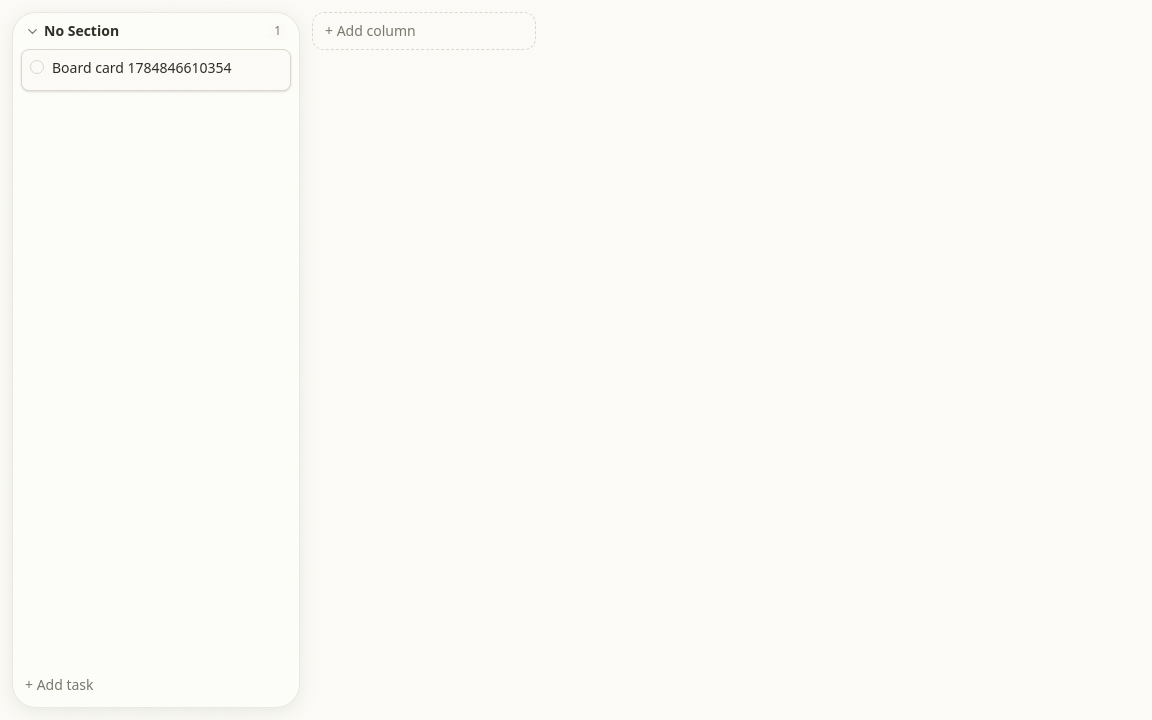
Test: KanbanBoard › shows the No Section column with existing tasks and can add a column
The width and height of the screenshot is (1152, 720).
Expected: the heading "No Section" is shown, x1=44 y1=21 x2=119 y2=40
# Adding a column renders it.
In the field labelled "Add column": [424, 31] box x1=312 y1=12 x2=536 y2=50, type "Doing"
Then press Enter
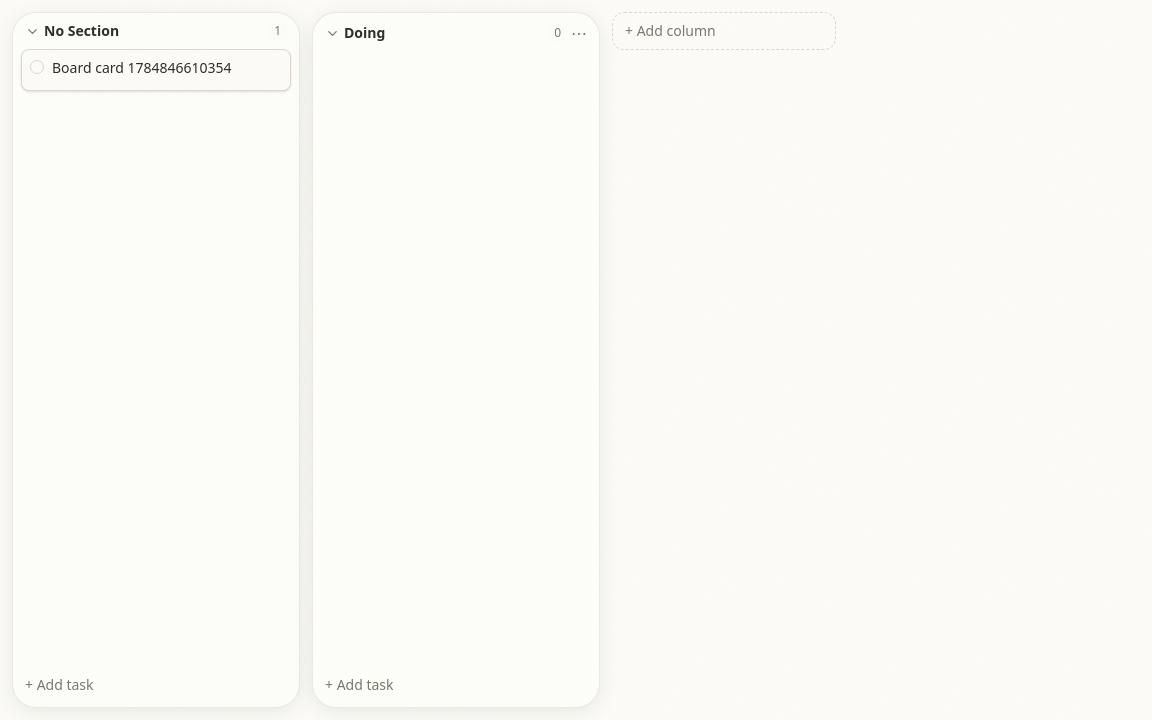
Now the heading "Doing" is shown, box x1=344 y1=23 x2=385 y2=42
